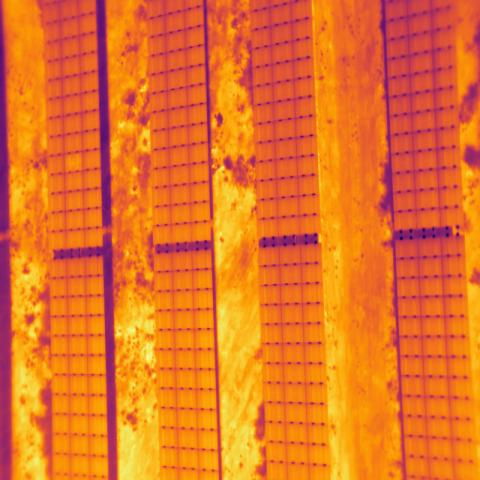fault: (63, 152, 82, 173)
